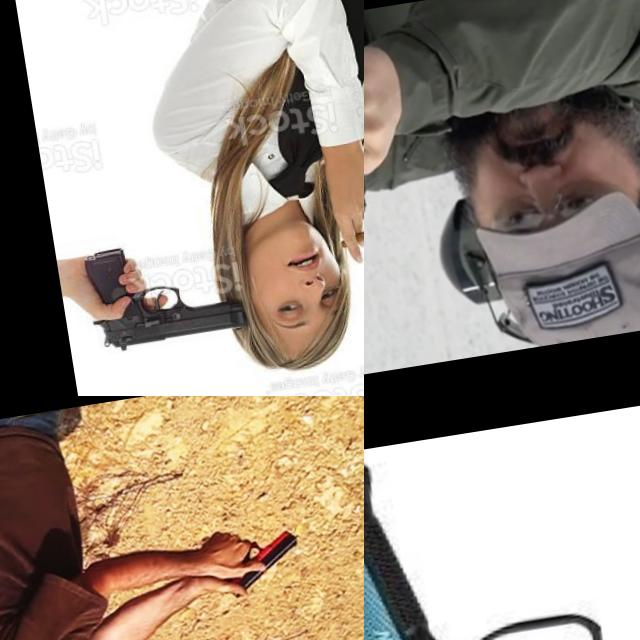handgun: (364, 396, 640, 640), (76, 222, 252, 362), (364, 119, 449, 276), (222, 528, 308, 601)
